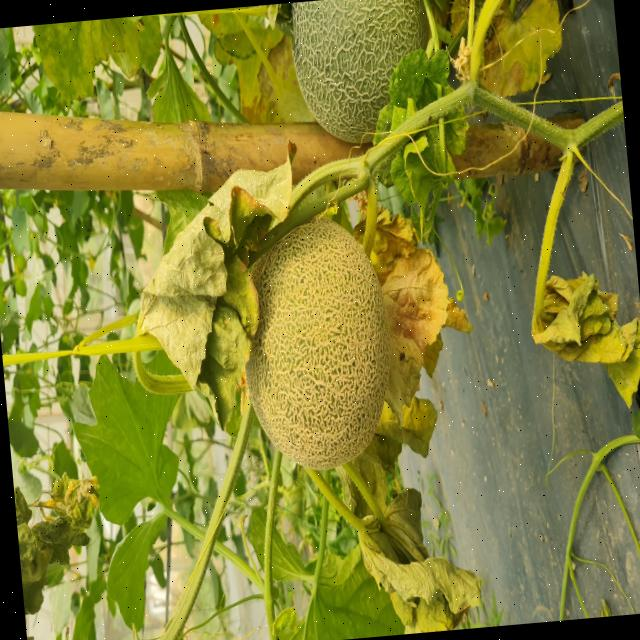melon: (245, 217, 390, 470), (291, 0, 428, 141)
